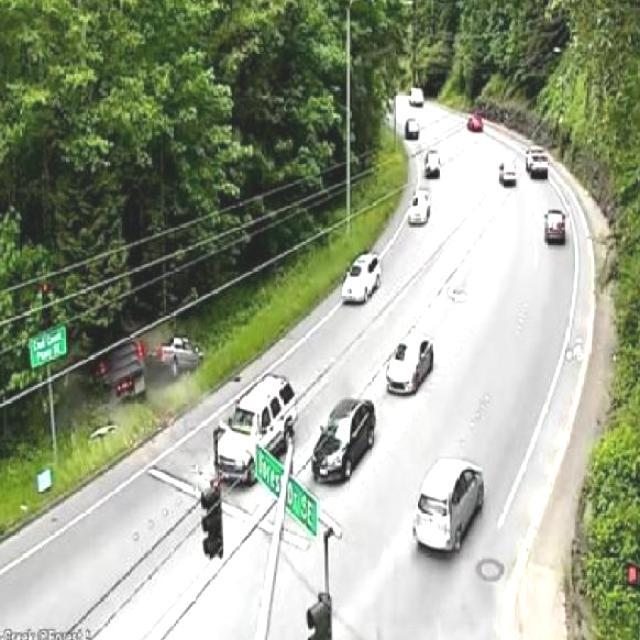accident: (97, 331, 206, 402)
